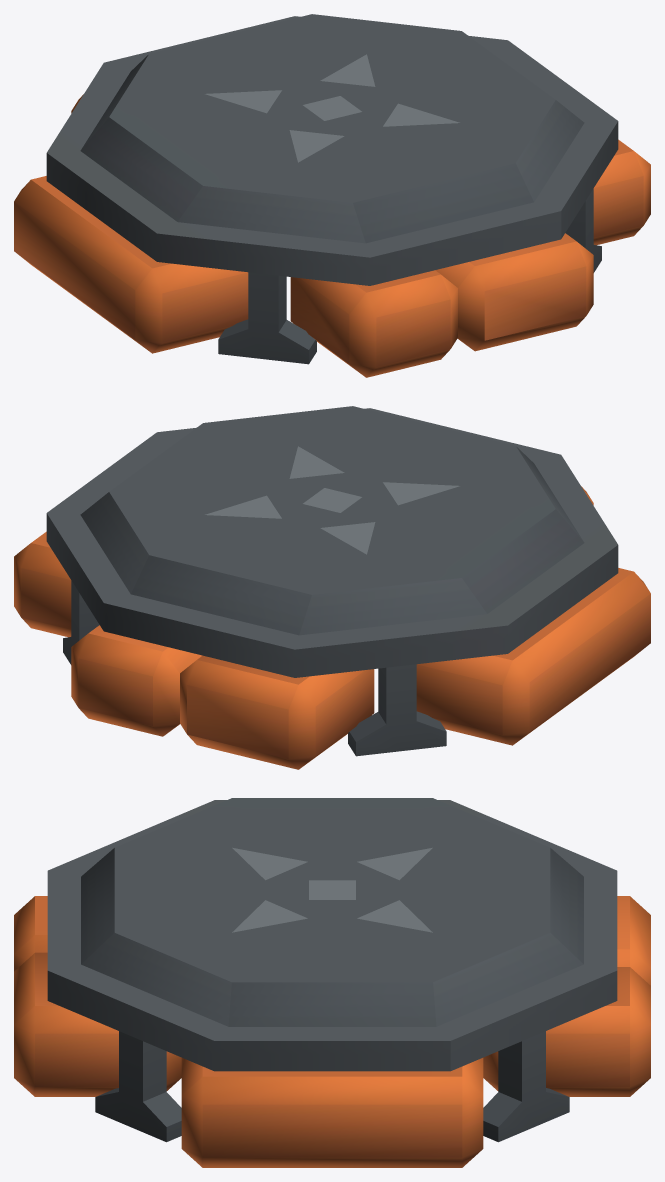
Rendered from landing-pad.glb.
3 renders of one model, top to bottom at view 1: azimuth 30°, elevation 25°; view 2: azimuth 150°, elevation 25°; view 3: azimuth 270°, elevation 25°, orthographic. The views are drawn at different scales.
Visible parts, largest first — view 1: landingpad_small; view 2: landingpad_small; view 3: landingpad_small.
Part boxes in pixels (x1,y1,x2,y2): landingpad_small: (14, 14, 650, 377); landingpad_small: (14, 406, 650, 769); landingpad_small: (14, 798, 650, 1167).
Bounding box in the file's own units: 1.9 × 0.5 × 1.9.
Materials: 1 (1 with a texture image).
